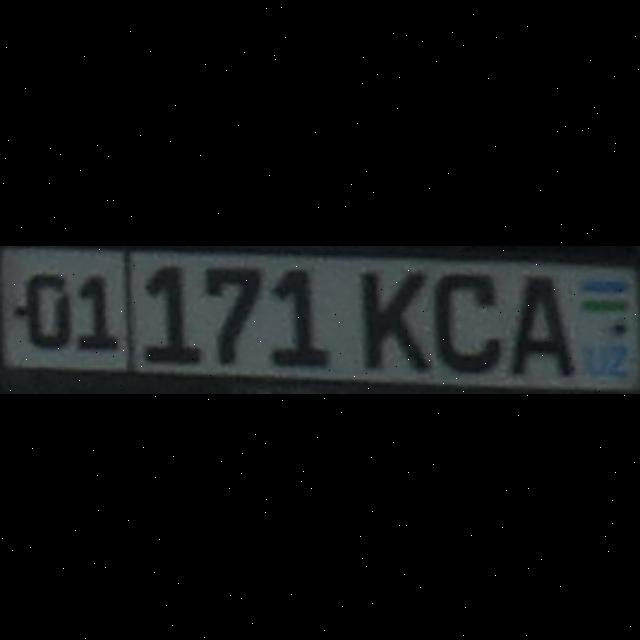0: (24, 270, 68, 350)
1: (268, 268, 326, 368), (141, 265, 199, 363), (74, 272, 112, 350)
7: (201, 262, 259, 364)
A: (508, 274, 570, 376)
C: (432, 270, 496, 370)
K: (358, 268, 422, 368)
